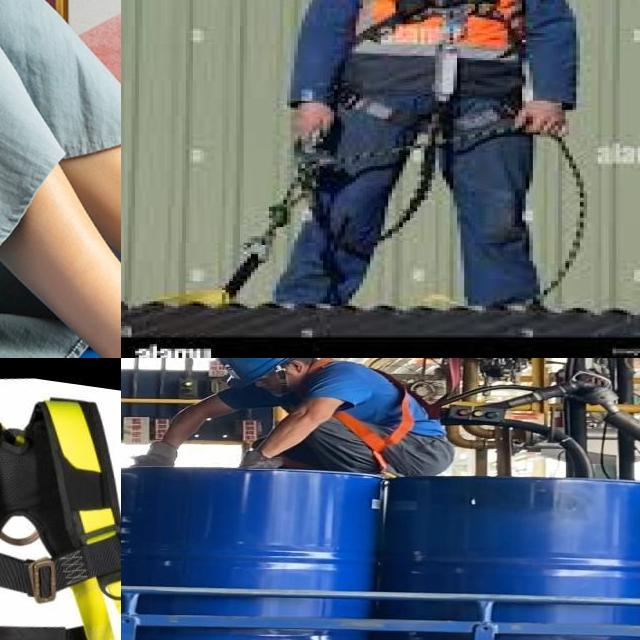Harness: (322, 0, 549, 220), (0, 399, 121, 640), (282, 358, 428, 476)
